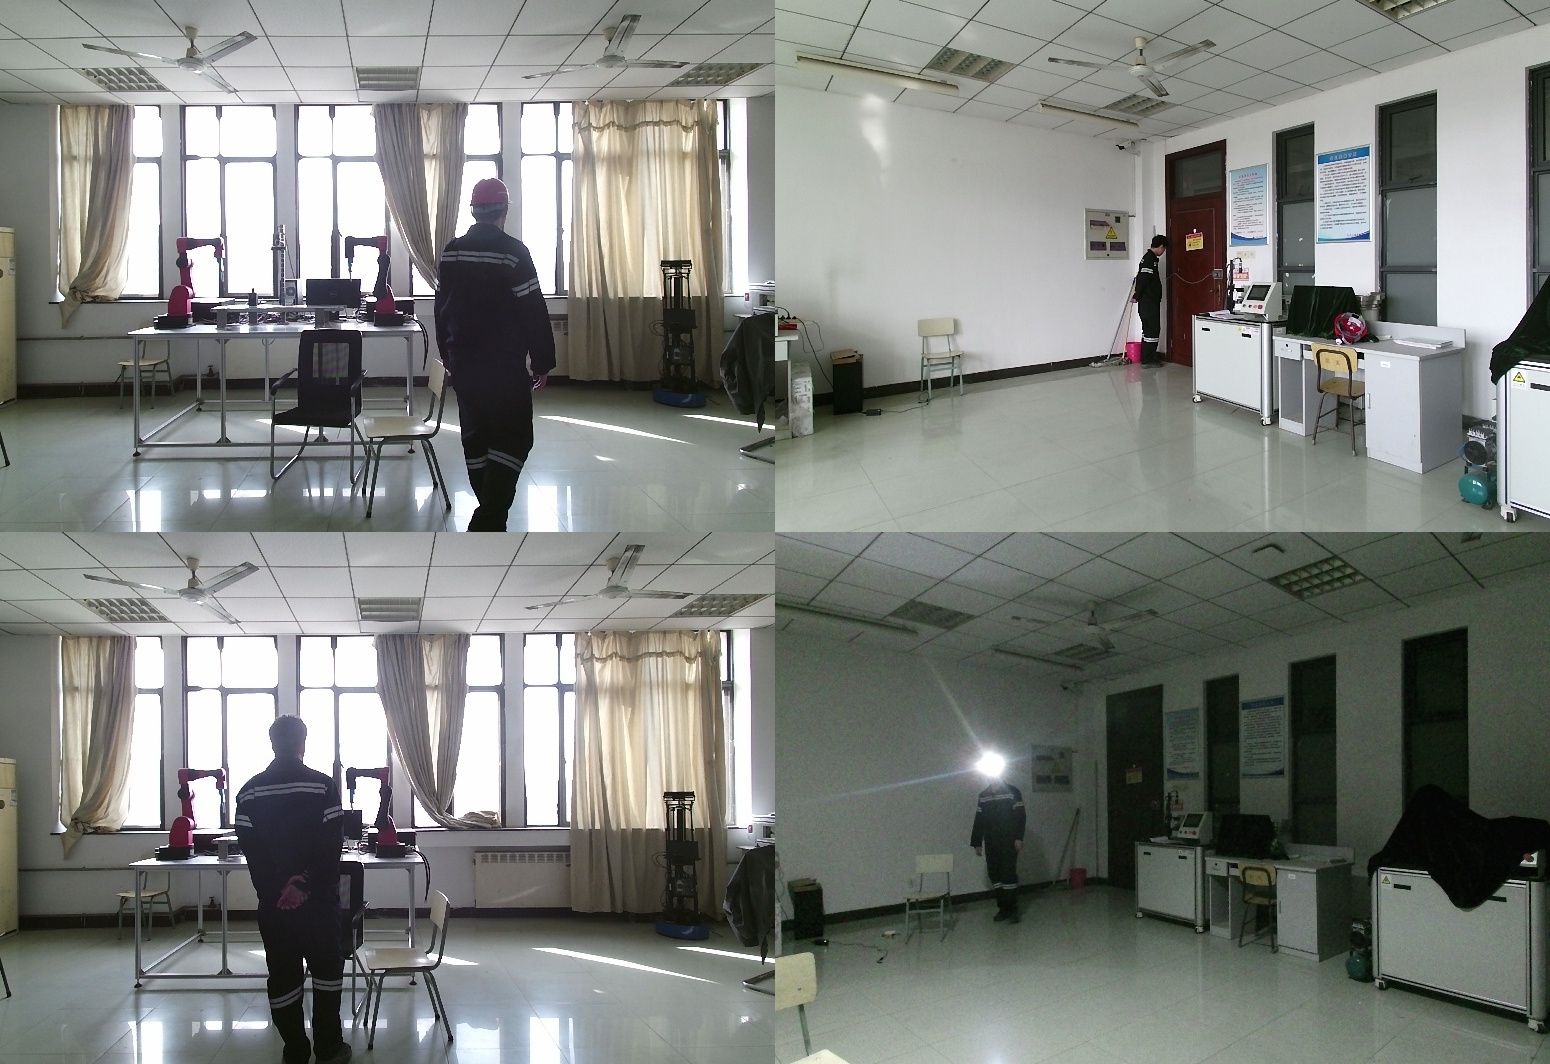person: (434, 178, 564, 532), (233, 717, 361, 1064), (969, 758, 1037, 928), (1132, 236, 1173, 374)
